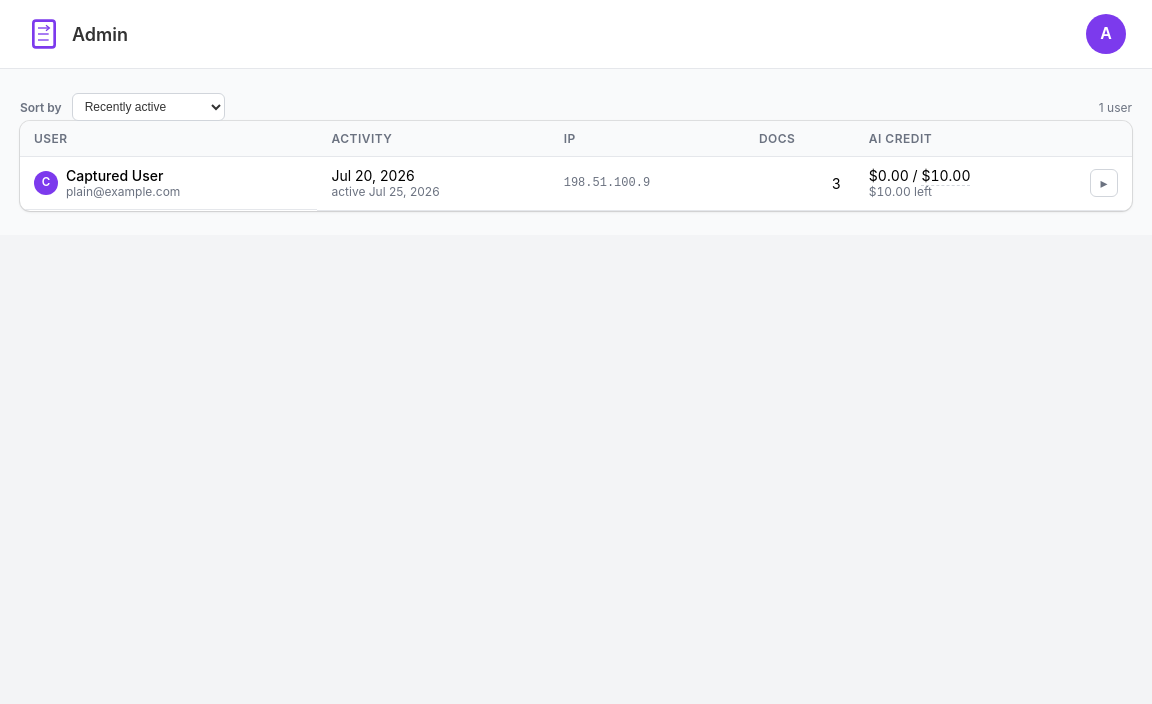
Test: AdminPage — per-user chat model override (feature 035) › renders a plain note instead of the picker when the model list is unavailable
Click the button named "Expand details" at (1104, 183), box [1090,169,1118,197]
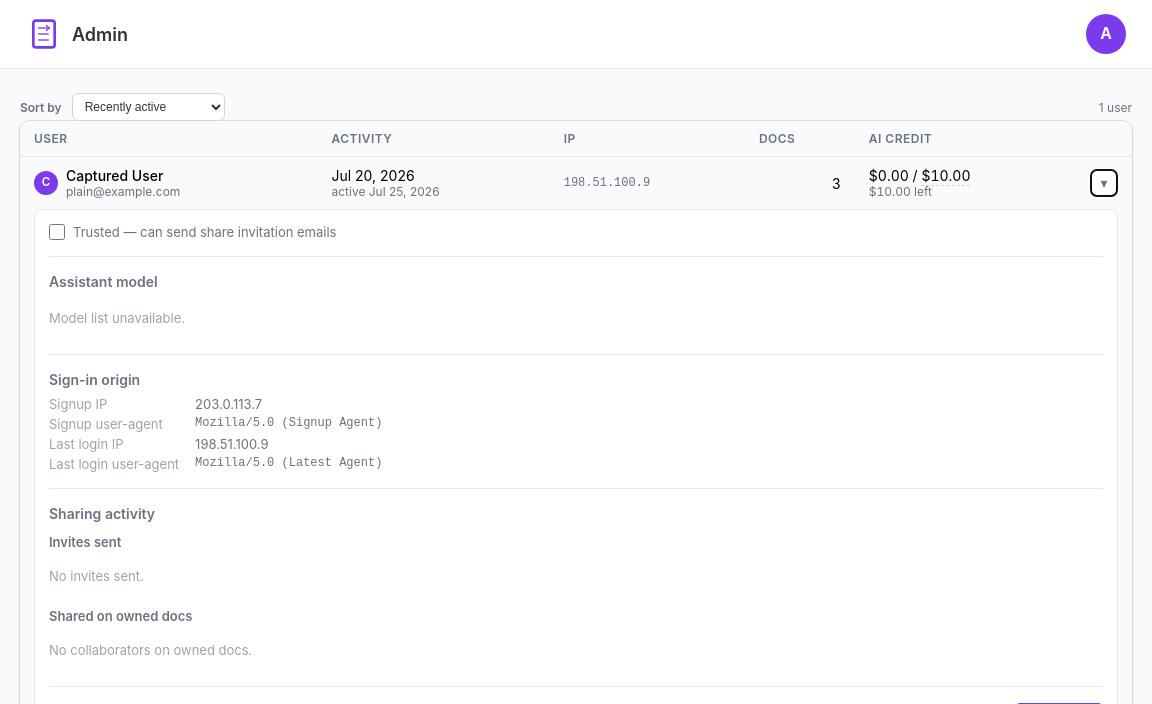
Now the text "Model list unavailable." is shown, box [49,310,185,326]
